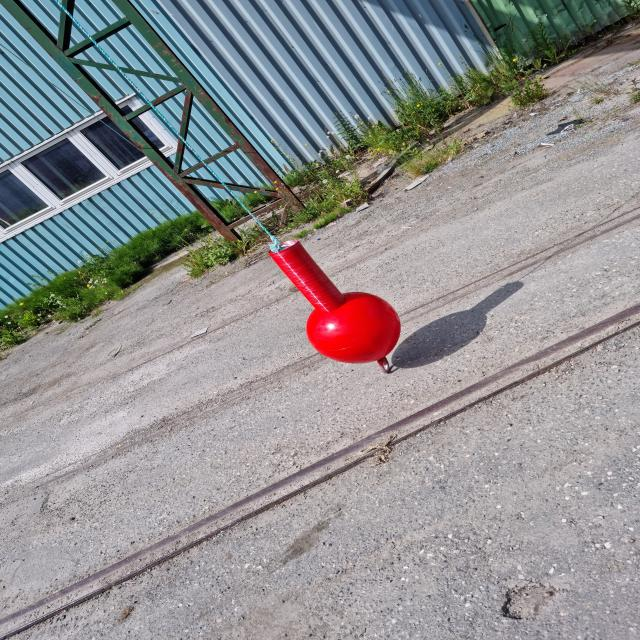red: (268, 238, 402, 365)
